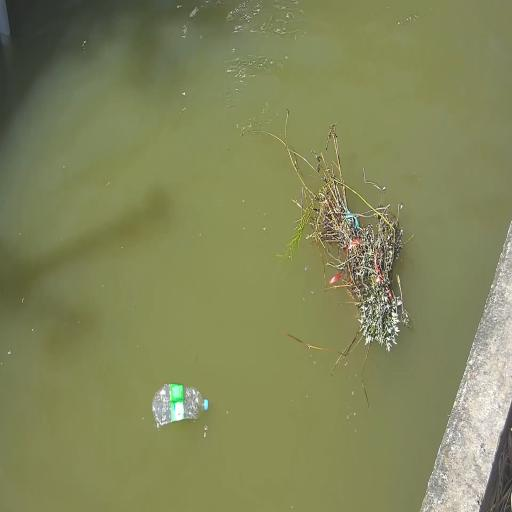plastic: (152, 384, 208, 428)
twig: (247, 110, 411, 361)
